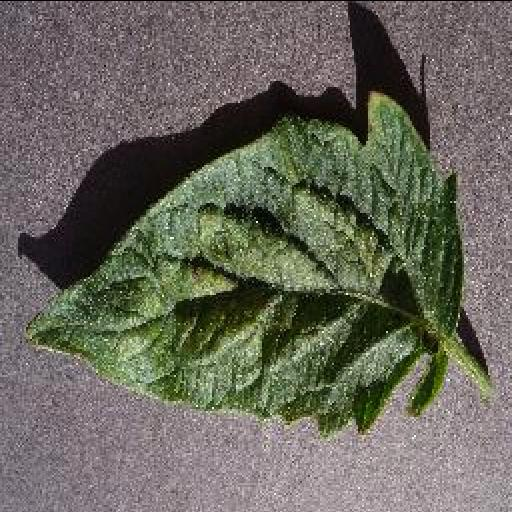disease_tomato: (22, 88, 466, 437)
